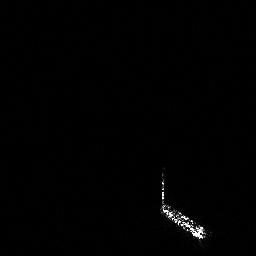ship: (157, 167, 209, 241)
